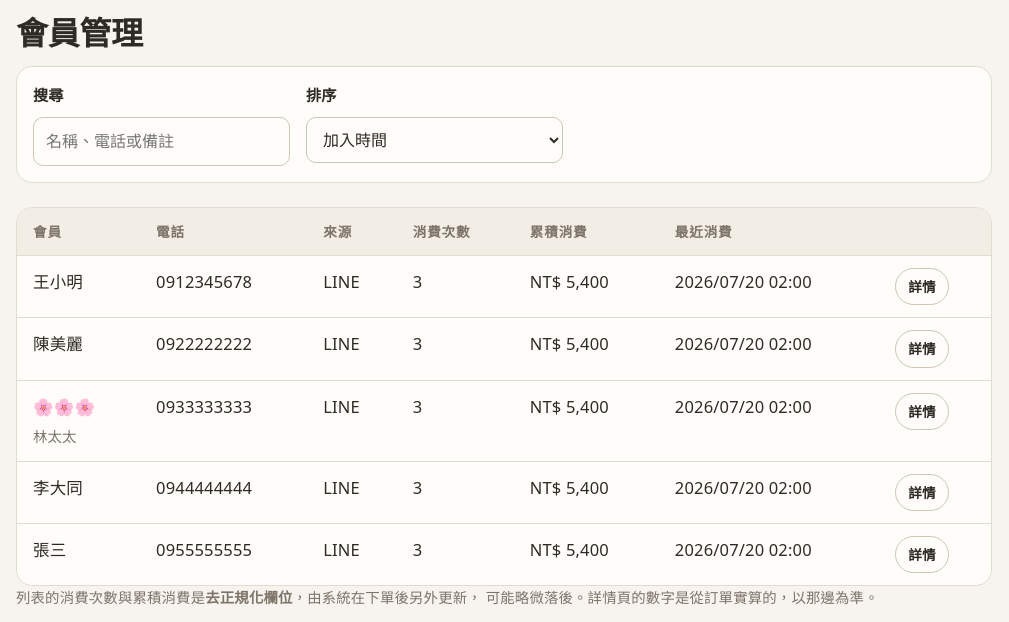
Test: AdminCustomersPage 的搜尋與排序 › 打字搜尋不會再打 API，畫面只剩符合的筆數
This screenshot has width=1009, height=622.
Expected: the text "王小明" is shown, [17,256,140,318]
Type "陳美麗" into the field labelled "搜尋" at (162, 142), box [33,117,290,166]
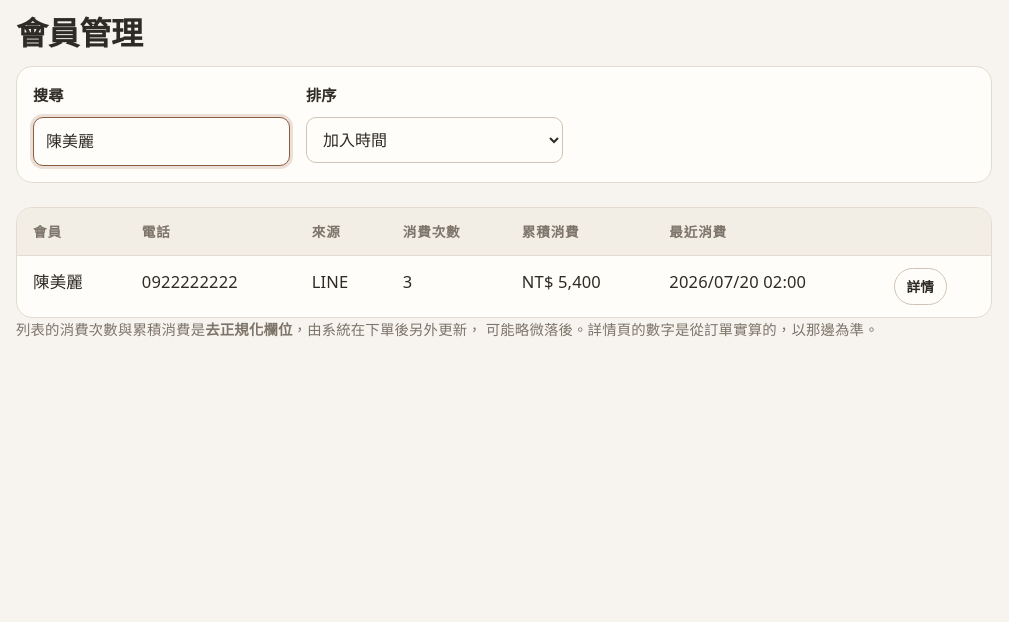
Expected: the text "陳美麗" is shown, [17,256,126,317]
Now the text "王小明" is gone
